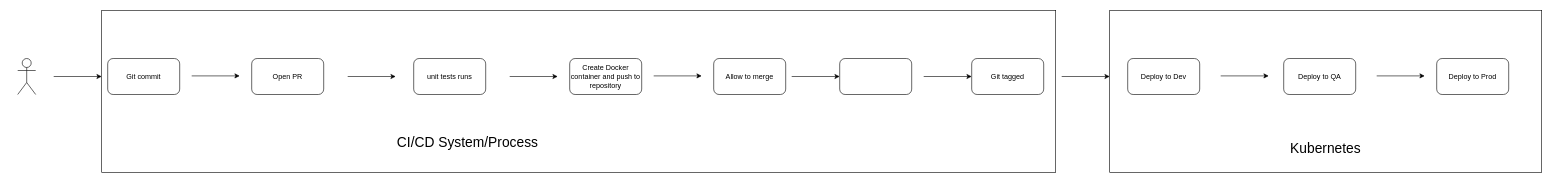
Image size: 1552x183. Some labels were removed from this diagram. The shapes that lost their labels are listed below. From the top down, each one's centre as x and y in pixels, then its label:
At (x=26, y=76): "Developer".
At (x=875, y=76): "Merge".
